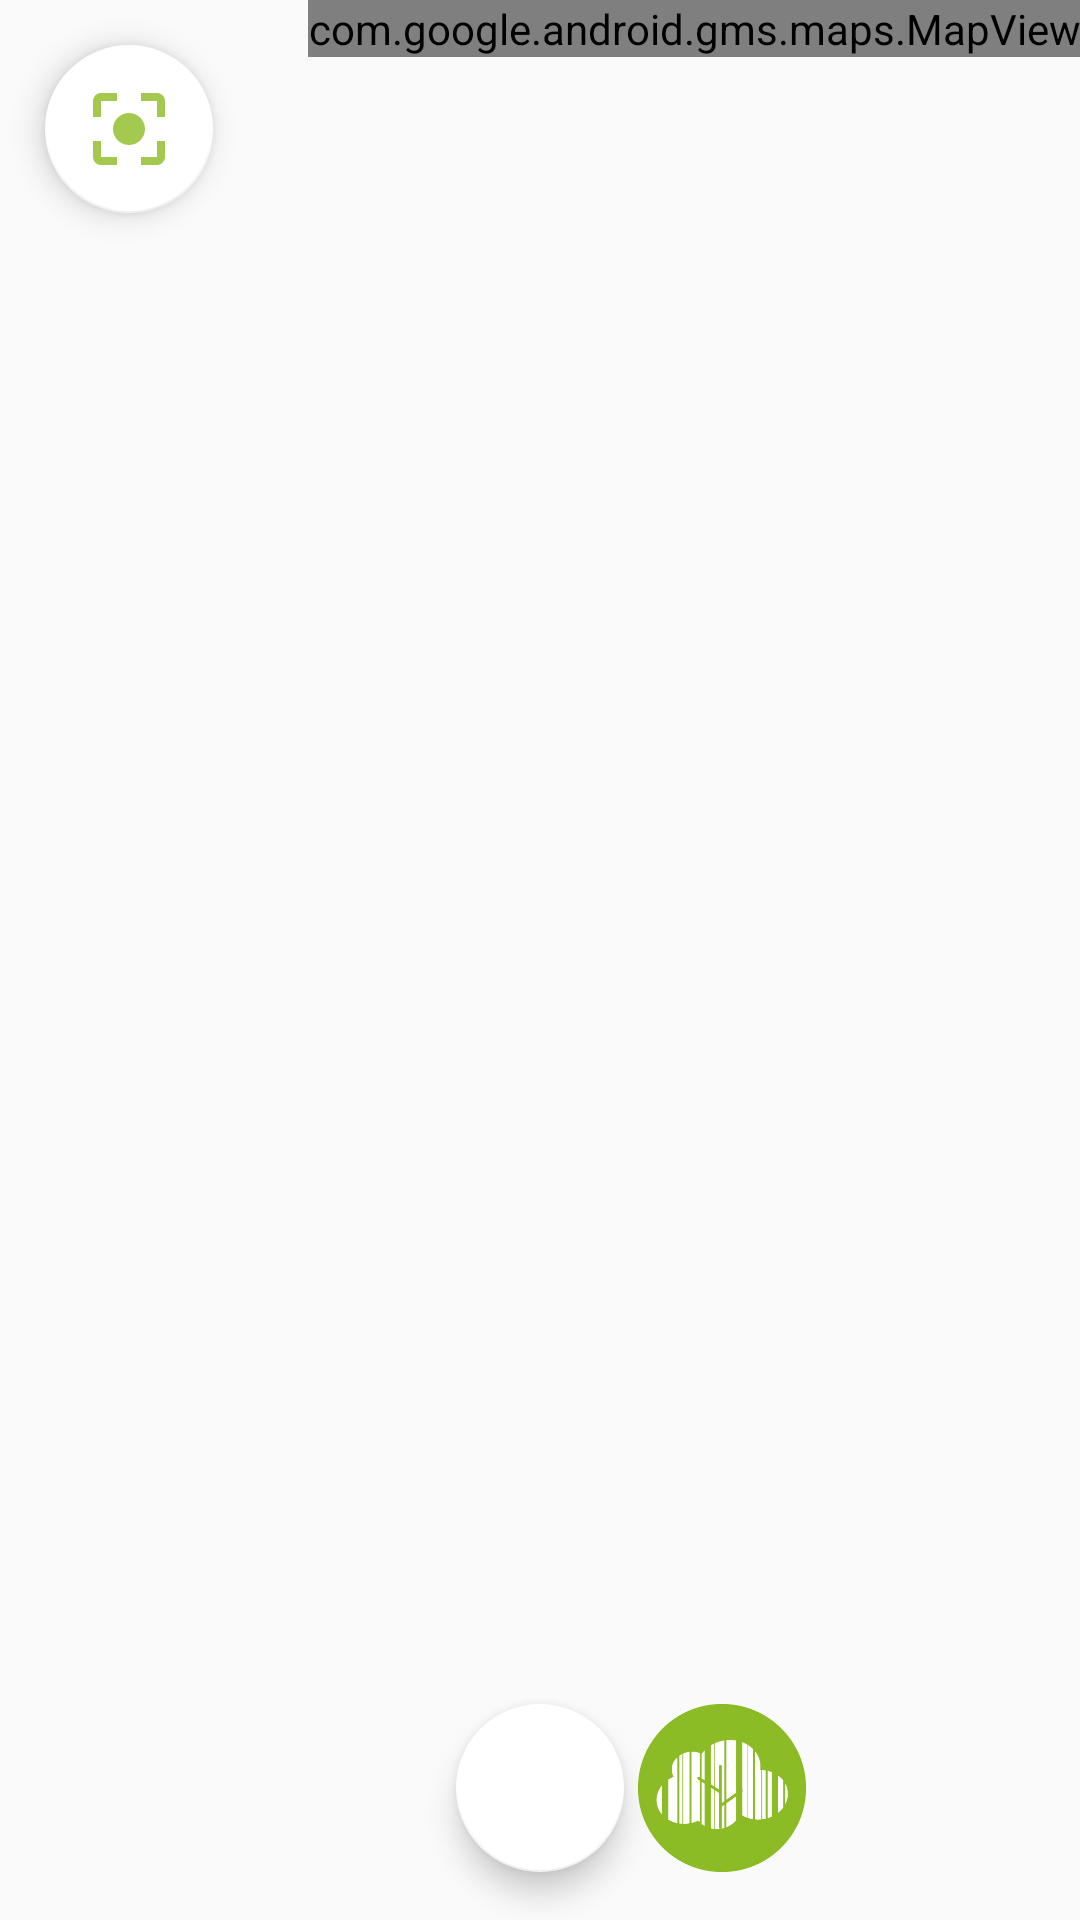

Screen size 1080w x 1920h. Icon name, then its box in pixels as rect(x1, y1, x2, y2):
focus center: rect(45, 45, 213, 213)
